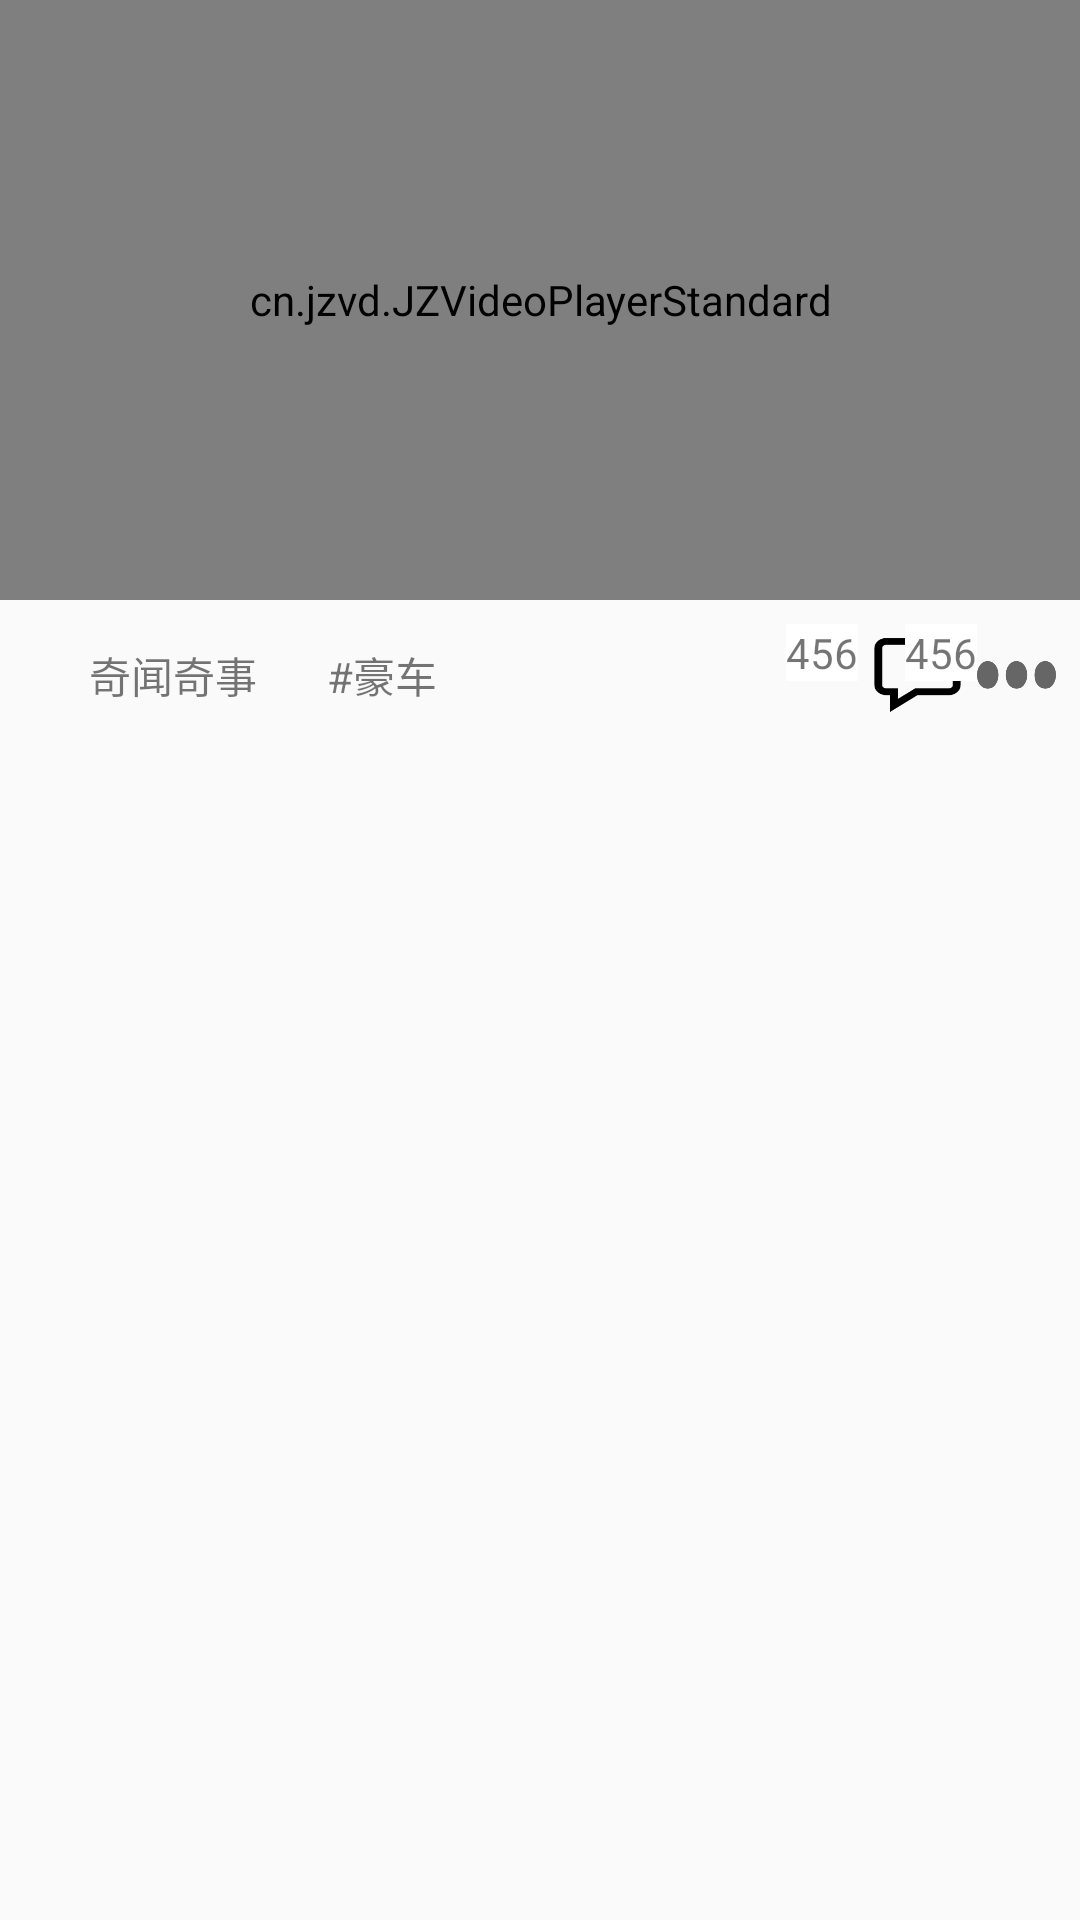

Where icons sit on this 1080px×1920px app screen, as detection(x1, y1, x2, y2):
er fragment gengduo: detection(977, 661, 1056, 689)
